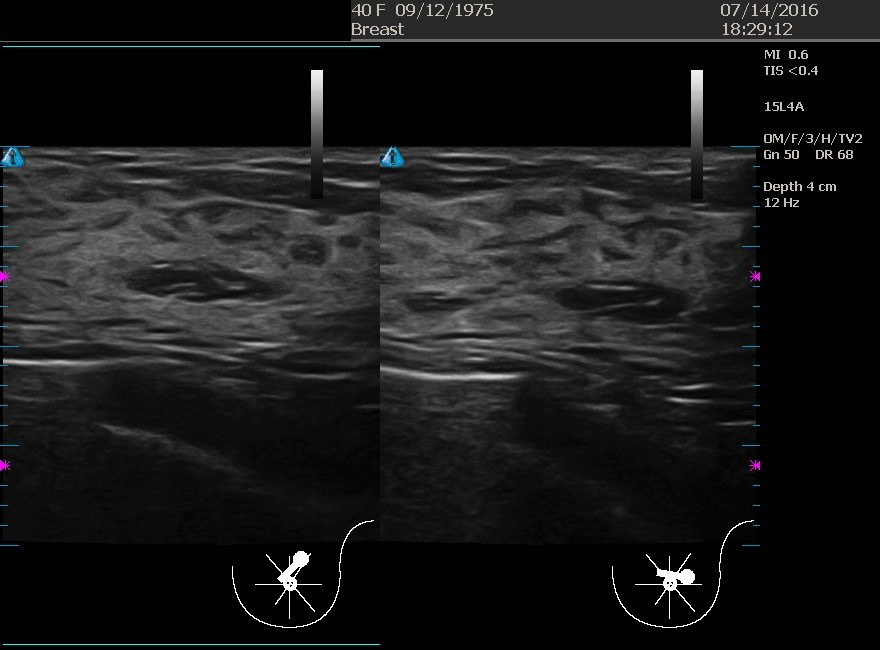BIRADS_3: (99, 192, 300, 393), (516, 216, 716, 416)
